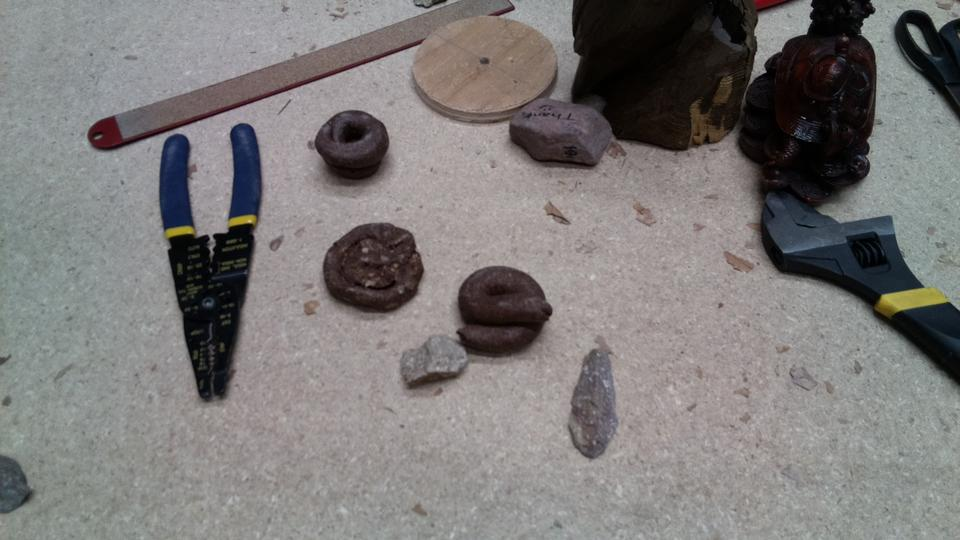poop: (322, 217, 426, 313), (455, 261, 555, 357), (310, 107, 395, 183)
